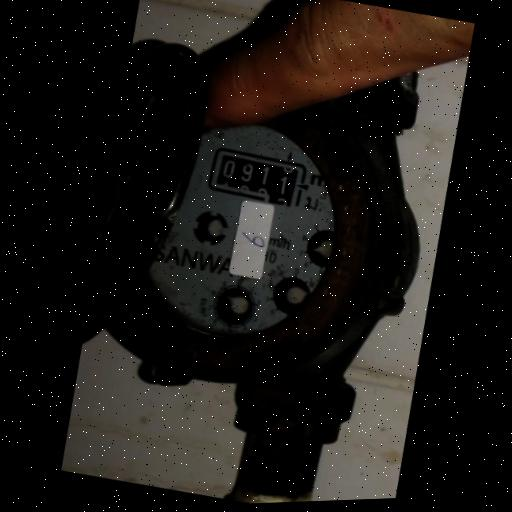0: (215, 153, 242, 188)
1: (266, 164, 300, 209), (251, 161, 278, 195)
9: (231, 157, 260, 193)
border_water_meter_number: (203, 142, 310, 212)
